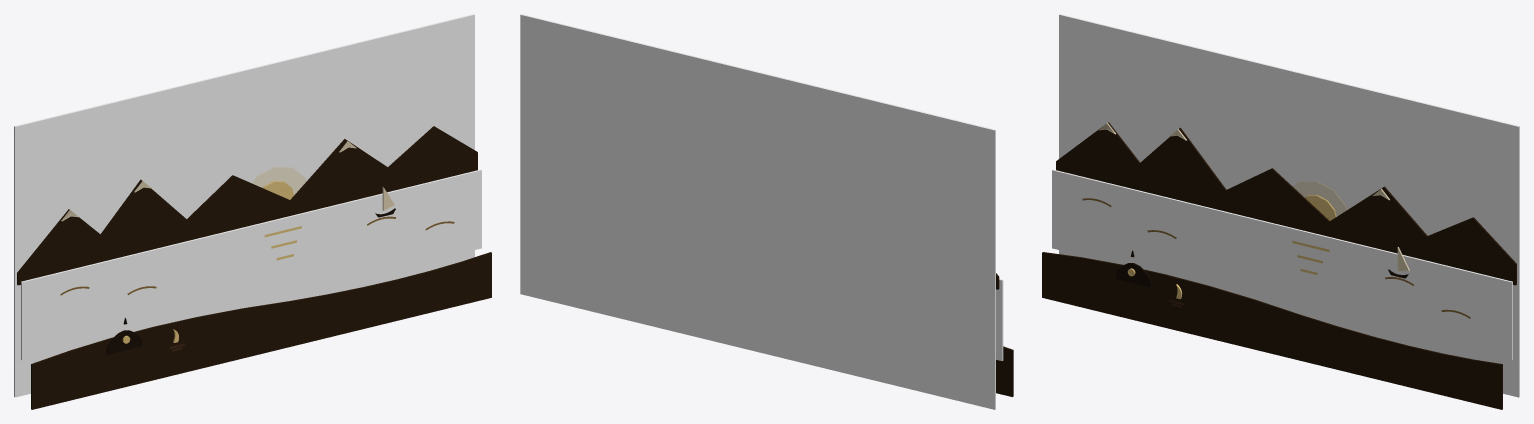
Rendered from loc-issyk-kul.glb.
3 renders of one model, left to right at view 1: azimuth 30°, elevation 25°; view 2: azimuth 150°, elevation 25°; view 3: azimuth 330°, elevation 25°, orthographic. The views are drawn at different scales.
Parts seen in each view (by area): view 1: loc-issyk-kul; view 2: loc-issyk-kul; view 3: loc-issyk-kul.
Part boxes in pixels (<box>): loc-issyk-kul: <box>14,14,491,409</box>; loc-issyk-kul: <box>520,14,1013,409</box>; loc-issyk-kul: <box>1042,14,1519,409</box>.
Size of the model in its own units: 5.33 by 3 by 0.461.
